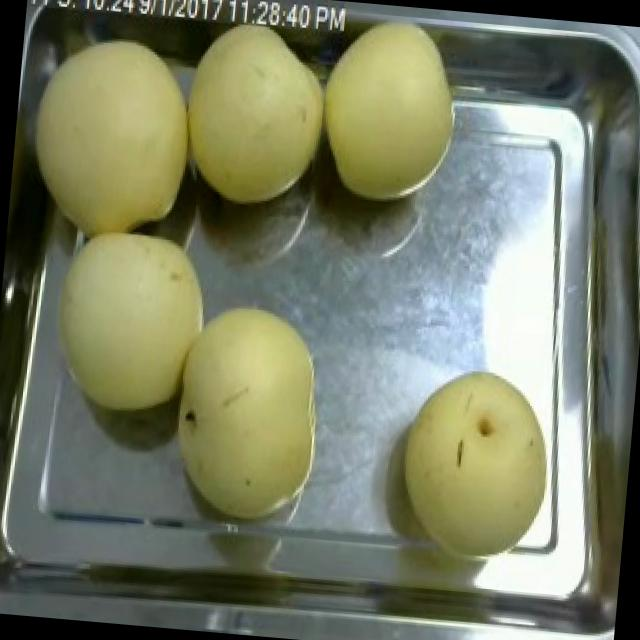Fruit: (6, 12, 205, 254), (156, 290, 340, 531), (31, 212, 230, 425), (384, 352, 569, 567), (172, 4, 334, 220), (312, 7, 473, 215)
